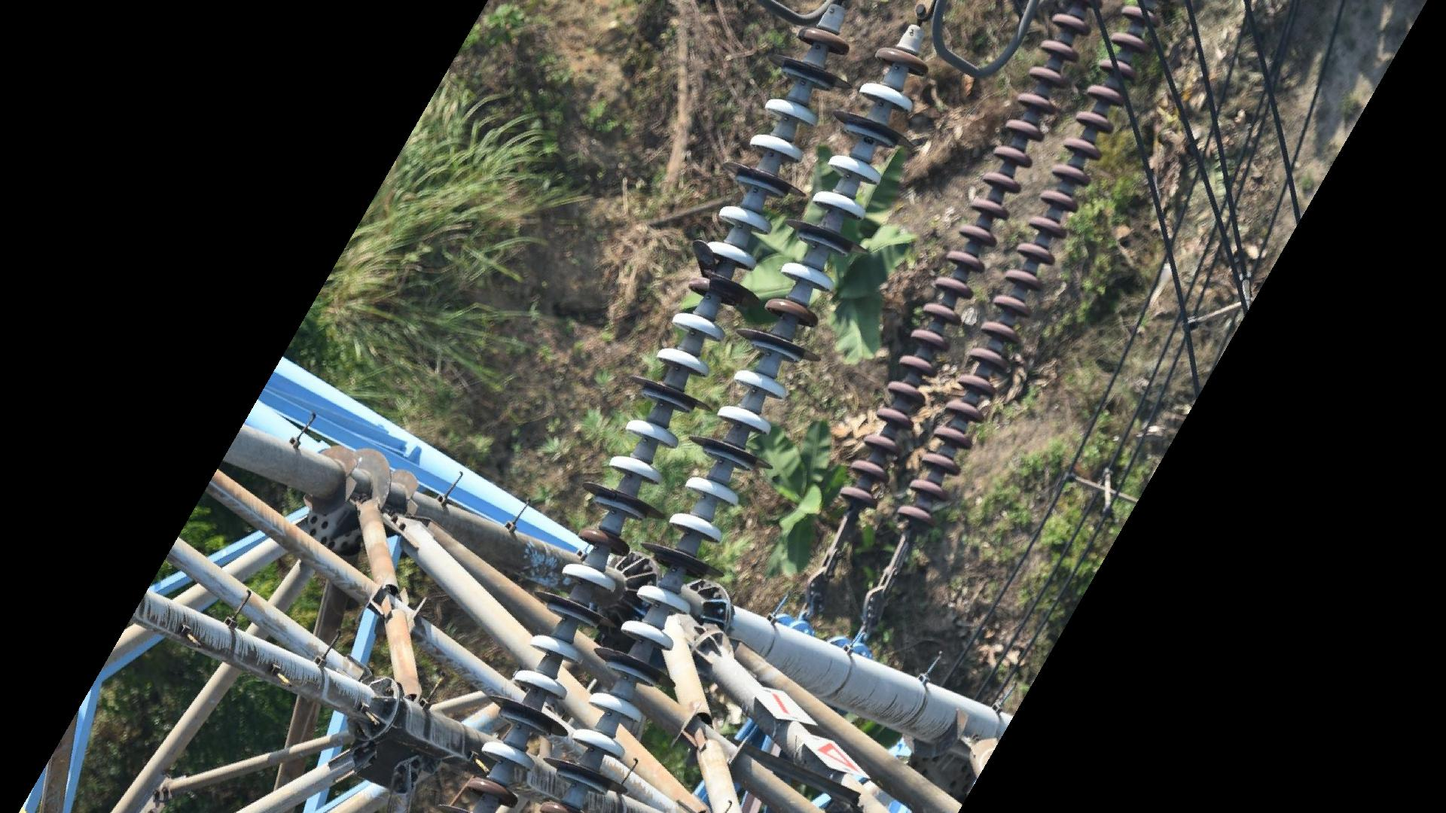insulator: (454, 19, 856, 813), (529, 40, 932, 813), (892, 1, 1164, 532), (834, 1, 1092, 517)
